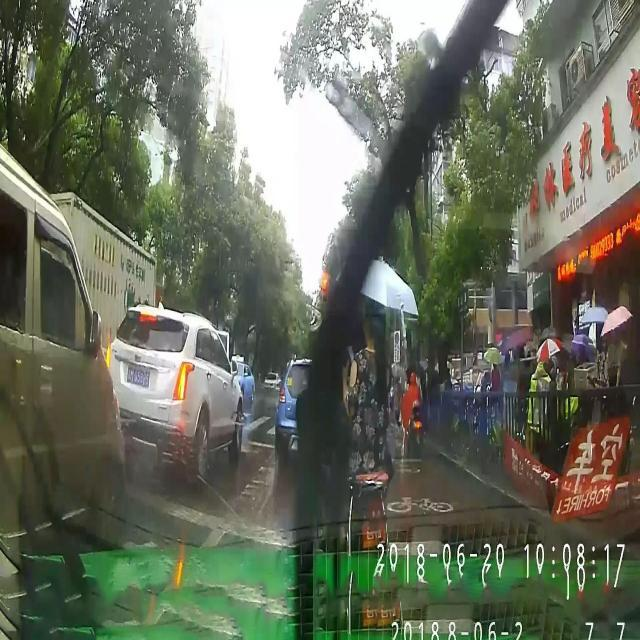car: (0, 143, 125, 522), (103, 302, 243, 491), (276, 353, 316, 458), (230, 358, 256, 403)
